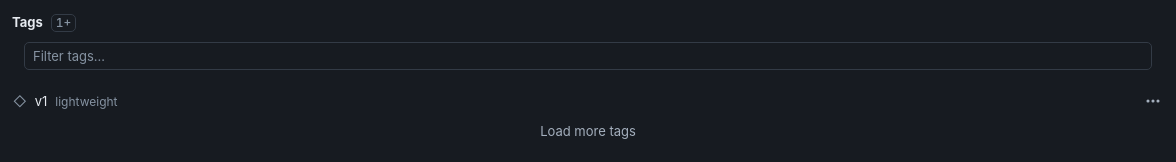
it: tag list › filters by name and loads further pages
This screenshot has width=1176, height=162.
Expected: the text "v1" is shown, [35,92,47,112]
Click the button "Load more tags". click: (588,132)
box: [12,119,1164,145]
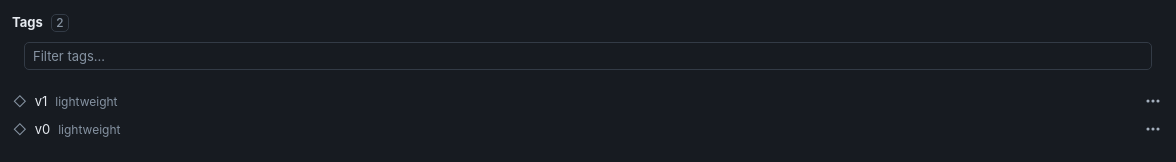
Expected: the text "v0" is shown, [35,120,50,140]
Type "zzz" into the search field labelled "Filter tags". click: (588,56)
box: [24,42,1152,70]
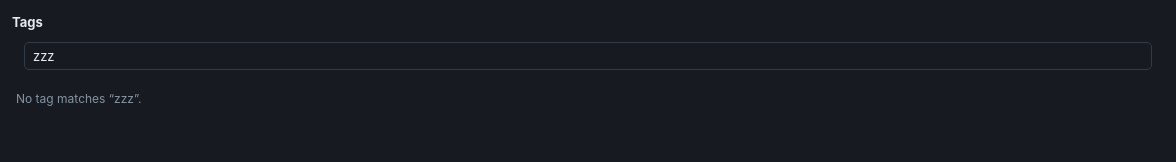
Expected: the text "No tag matches “zzz”." is shown, [16,91,142,106]
